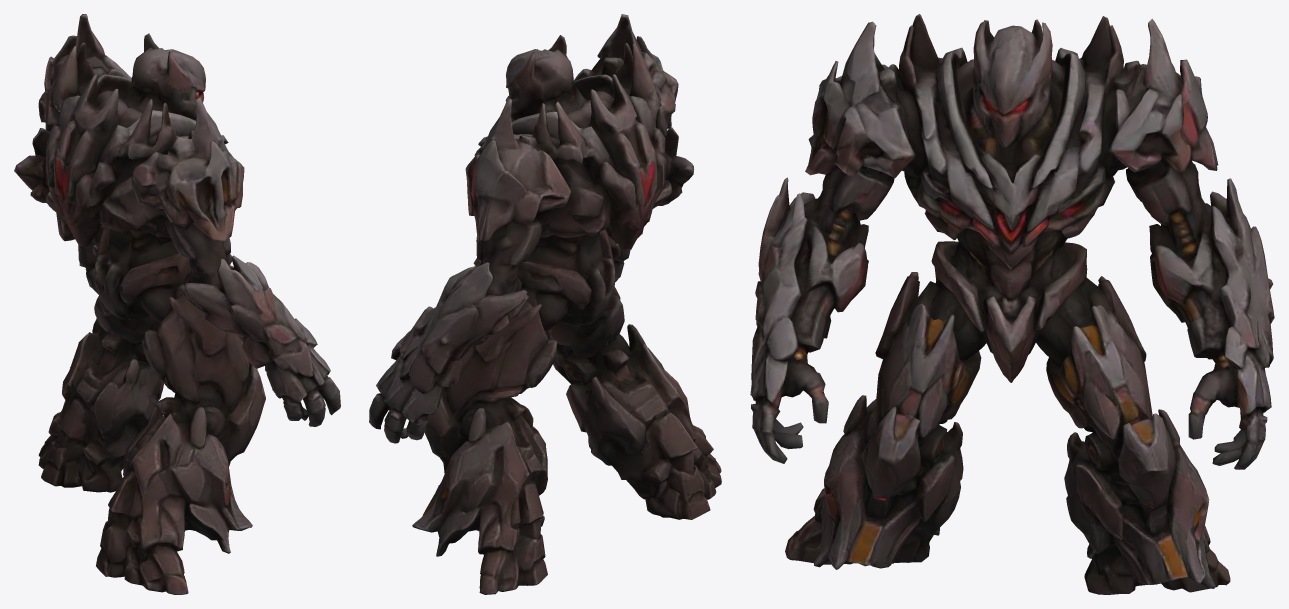
Rendered from cyber-titan.glb.
3 renders of one model, left to right at view 1: azimuth 30°, elevation 25°; view 2: azimuth 150°, elevation 25°; view 3: azimuth 270°, elevation 25°, orthographic. The views are drawn at different scales.
Parts seen in each view (by area): view 1: tripo_node_0fd9faf9-9b82-44ef-9e3e-8ec8faf2da3d; view 2: tripo_node_0fd9faf9-9b82-44ef-9e3e-8ec8faf2da3d; view 3: tripo_node_0fd9faf9-9b82-44ef-9e3e-8ec8faf2da3d.
Boxes of the visible parts, <box> form: tripo_node_0fd9faf9-9b82-44ef-9e3e-8ec8faf2da3d: <box>14,14,340,594</box>; tripo_node_0fd9faf9-9b82-44ef-9e3e-8ec8faf2da3d: <box>369,14,721,594</box>; tripo_node_0fd9faf9-9b82-44ef-9e3e-8ec8faf2da3d: <box>750,14,1274,594</box>.
Bounding box in the file's own units: 0.4207 × 1 × 0.8192.
1 material, 1 textured.
